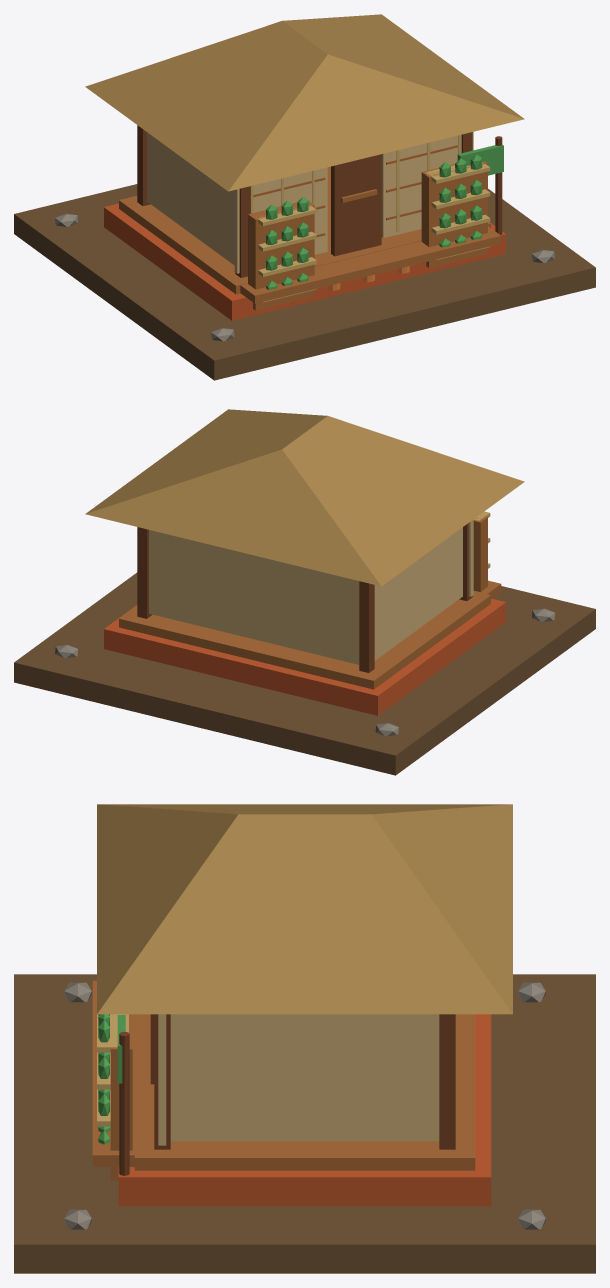
File: healer_house.glb
3 views of the same model, one above another, from view 1: azimuth 30°, elevation 25°; view 2: azimuth 150°, elevation 25°; view 3: azimuth 270°, elevation 25° (orthographic). The views are drawn at different scales.
Parts seen in each view (by area): view 1: HealerHouseRoof, Building_Base, HealerHousePlatform, HealerHouseSideWall, HealerHouseFloor, HealerHousePorch, HealerHouseDoor, HealerHouseFrontPanel.001, HerbRack, HerbRack.001, HealerHouseFrontPanel, HealerHousePost (+4 smaller); view 2: HealerHouseRoof, Building_Base, HealerHouseRearPanel, HealerHousePlatform, HealerHouseFloor, HealerHouseSideWall, HealerHousePost.001, HealerHousePost.003, HerbRack; view 3: HealerHouseRoof, Building_Base, HealerHouseSideWall.001, HealerHousePlatform, HealerHouseFloor, HealerHousePost.003, HealerHousePorch, HerbRack.001, HealerSignPost, HealerHousePost.002, HealerHouseFrontPanel.001.
Part boxes in pixels (<box>): HealerHouseRoof: <box>85,14,524,191</box>; Building_Base: <box>14,184,595,380</box>; HealerHousePlatform: <box>104,203,505,320</box>; HealerHouseSideWall: <box>147,132,234,265</box>; HealerHouseFloor: <box>119,166,490,294</box>; HealerHousePorch: <box>240,226,501,303</box>; HealerHouseDoor: <box>331,154,381,256</box>; HealerHouseFrontPanel.001: <box>381,132,473,237</box>; HerbRack: <box>248,201,314,310</box>; HerbRack.001: <box>421,161,487,268</box>; HealerHouseFrontPanel: <box>234,167,327,273</box>; HealerHousePost: <box>235,186,250,277</box>; HealerHouseRoof: <box>85,409,524,586</box>; Building_Base: <box>14,572,595,775</box>; HealerHouseRearPanel: <box>149,530,359,664</box>; HealerHousePlatform: <box>104,598,505,715</box>; HealerHouseFloor: <box>119,591,490,689</box>; HealerHouseSideWall: <box>374,527,462,660</box>; HealerHousePost.001: <box>359,581,374,672</box>; HealerHousePost.003: <box>137,527,152,618</box>; HerbRack: <box>473,515,487,591</box>; HealerHouseRoof: <box>97,804,512,1014</box>; Building_Base: <box>14,974,595,1273</box>; HealerHouseSideWall.001: <box>170,1014,439,1141</box>; HealerHousePlatform: <box>118,1014,491,1206</box>; HealerHouseFloor: <box>134,1014,475,1170</box>; HealerHousePost.003: <box>439,1014,455,1149</box>; HealerHousePorch: <box>92,980,134,1166</box>; HerbRack.001: <box>110,1014,132,1180</box>; HealerSignPost: <box>119,1031,129,1175</box>; HealerHousePost.002: <box>154,1014,170,1149</box>; HealerHouseFrontPanel.001: <box>158,1014,166,1145</box>.
Bounding box in the file's own units: 11 × 6.15 × 10.
